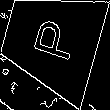P_W: (24, 16, 78, 66)
